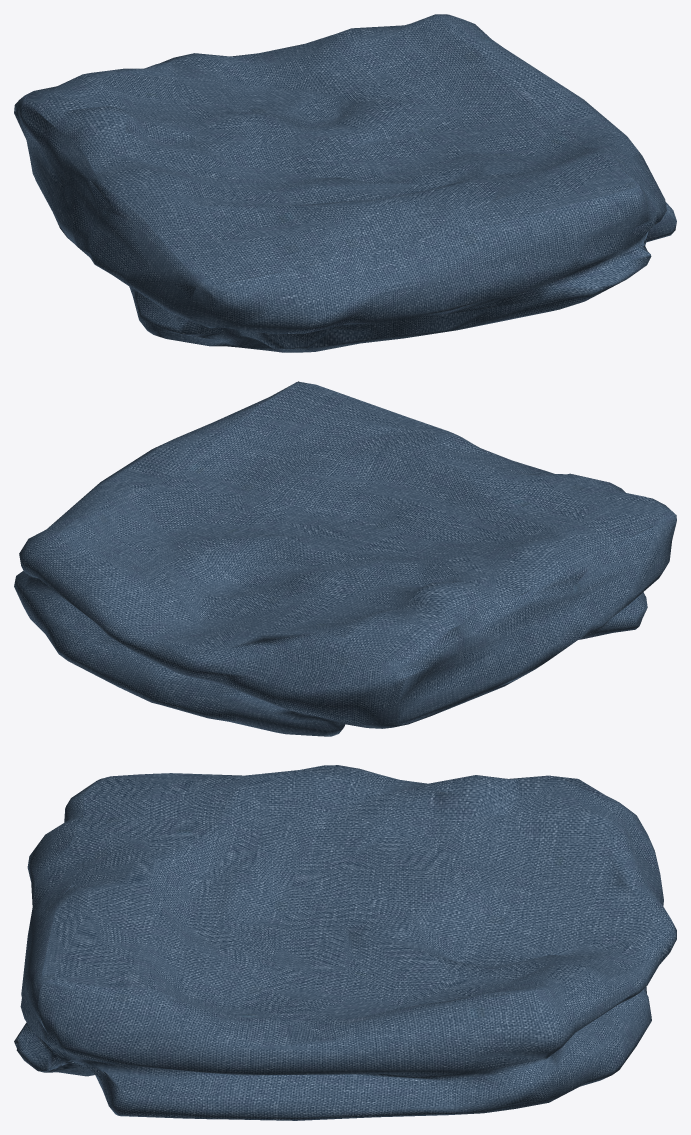
3 views of the same model, one above another, from view 1: azimuth 30°, elevation 25°; view 2: azimuth 150°, elevation 25°; view 3: azimuth 270°, elevation 25° (orthographic). The views are drawn at different scales.
Visible parts, largest first — view 1: Object_18; view 2: Object_18; view 3: Object_18.
Boxes of the visible parts, x1=… form: Object_18: x1=14, y1=14, x2=676, y2=352; Object_18: x1=14, y1=381, x2=676, y2=736; Object_18: x1=14, y1=765, x2=676, y2=1120.
Size of the model in its own units: 0.1 by 0.1 by 0.025.
1 material, 1 textured.
